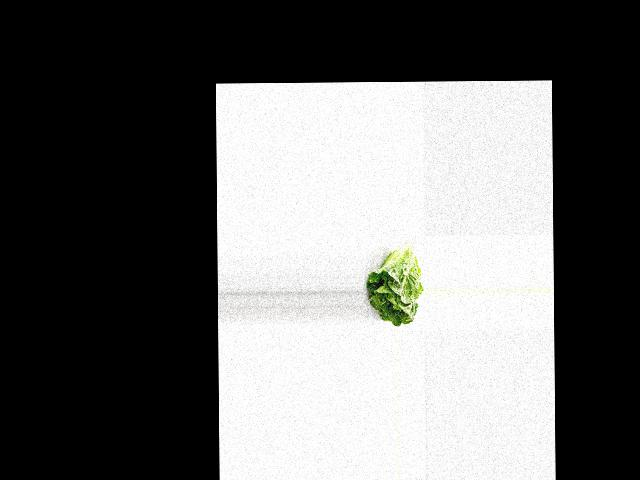lettuce: (365, 243, 424, 325)
